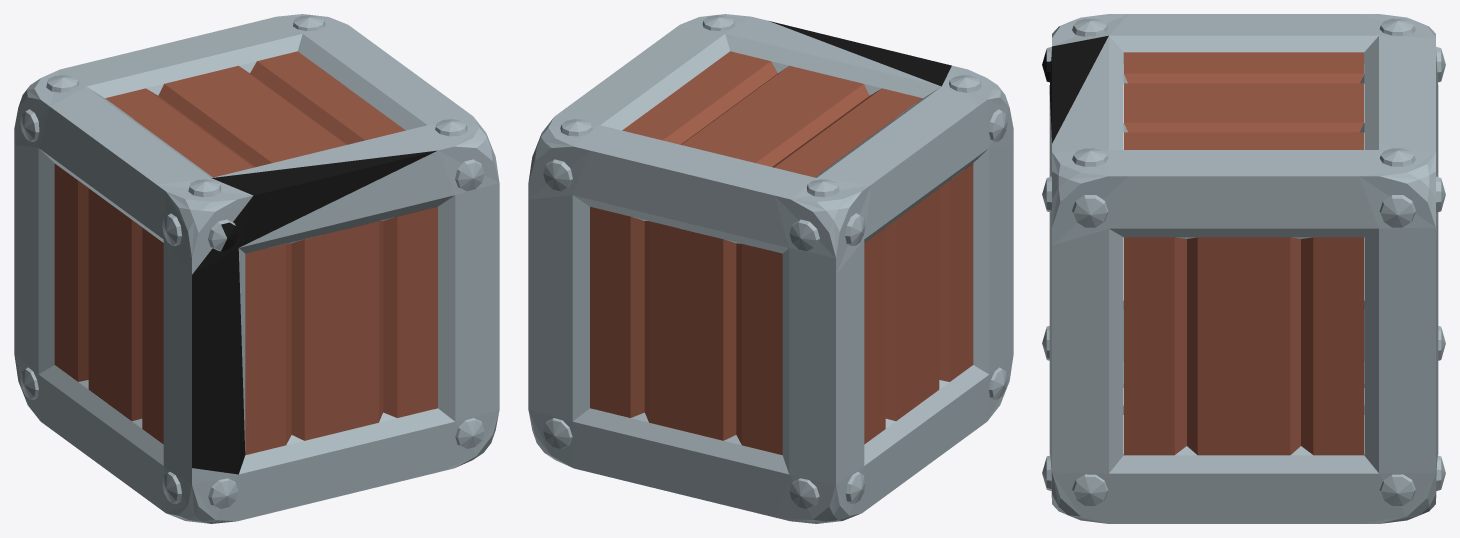
Rendered from crate.gltf.
The picture shows the model from 3 angles, left to right: view 1: azimuth 30°, elevation 25°; view 2: azimuth 150°, elevation 25°; view 3: azimuth 270°, elevation 25°; orthographic projection. The views are drawn at different scales.
Visible parts, largest first — view 1: crate; view 2: crate; view 3: crate.
Boxes of the visible parts, box(x1,y1,x2,y2) form: crate: box(14, 14, 499, 523); crate: box(528, 14, 1013, 523); crate: box(1042, 14, 1445, 523).
Size of the model in its own units: 1.05 by 1.05 by 1.05.
